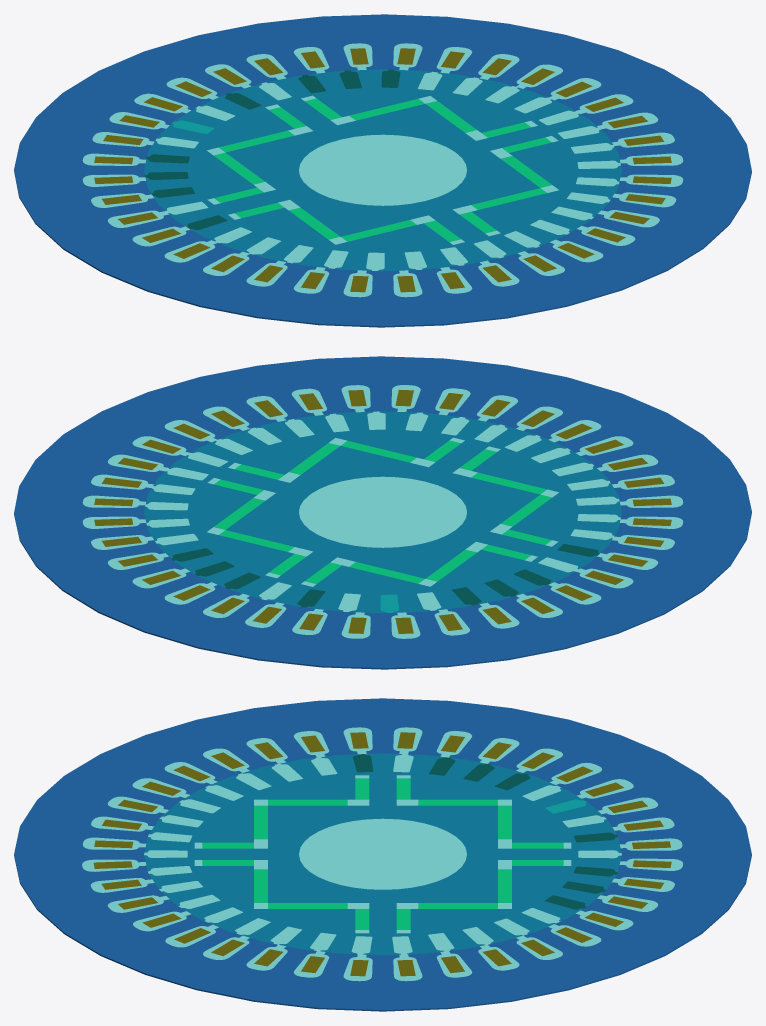
3 renders of one model, top to bottom at view 1: azimuth 30°, elevation 25°; view 2: azimuth 150°, elevation 25°; view 3: azimuth 270°, elevation 25°, orthographic.
Visible parts, largest first — view 1: Shape001, Shape002, Shape003; view 2: Shape001, Shape002, Shape003; view 3: Shape001, Shape002, Shape003, Object002 (×2).
Part boxes in pixels (x1,y1,x2,y2): Shape001: [14, 14, 751, 327]; Shape002: [144, 69, 621, 271]; Shape003: [299, 134, 466, 205]; Shape001: [14, 356, 751, 669]; Shape002: [144, 411, 621, 613]; Shape003: [299, 476, 466, 547]; Shape001: [14, 698, 751, 1011]; Shape002: [144, 753, 621, 955]; Shape003: [299, 818, 466, 889]; Object002 (×2): [268, 799, 497, 805].
Size of the model in its own units: 485 by 1 by 485.
